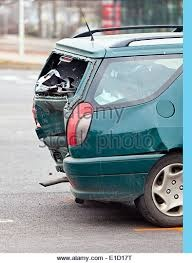Broken-glass: (32, 57, 91, 96)
Smashed: (29, 97, 85, 197)
